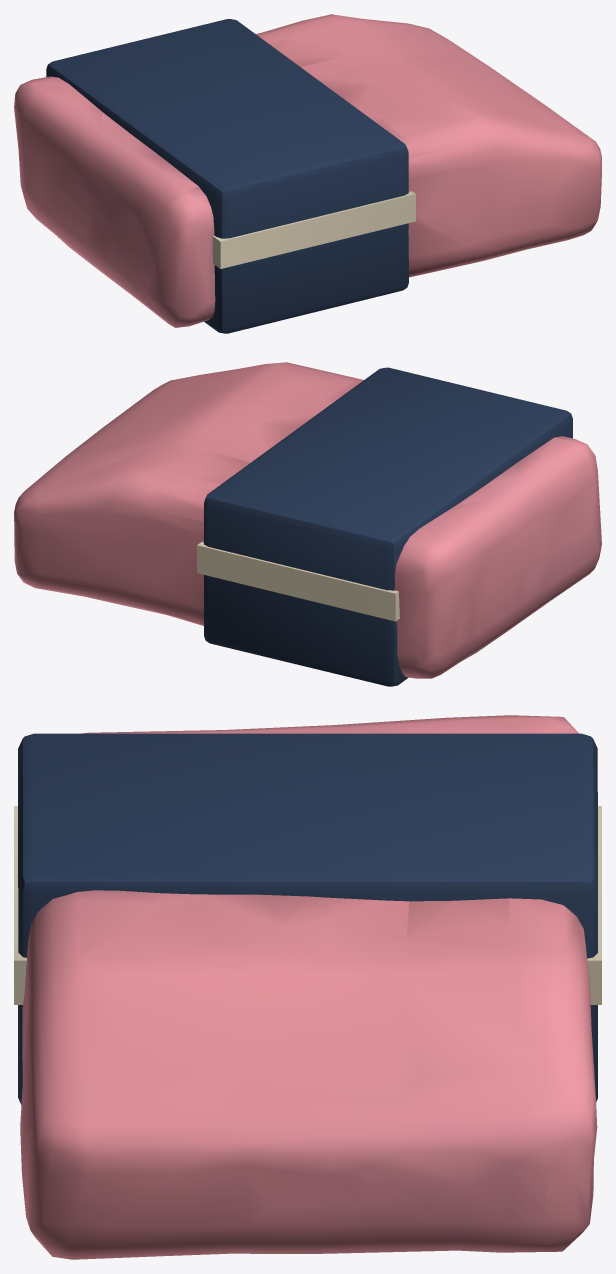
The model's file is frost_eraser_lod1.glb.
3 renders of one model, top to bottom at view 1: azimuth 30°, elevation 25°; view 2: azimuth 150°, elevation 25°; view 3: azimuth 270°, elevation 25°, orthographic. The views are drawn at different scales.
Parts seen in each view (by area): view 1: frost_eraser.001; view 2: frost_eraser.001; view 3: frost_eraser.001.
Part boxes in pixels (left/top/right/bottom): frost_eraser.001: left=14, top=14, right=601, bottom=333; frost_eraser.001: left=14, top=362, right=601, bottom=686; frost_eraser.001: left=14, top=715, right=601, bottom=1259.
Size of the model in its own units: 5.07 by 1.65 by 3.6.
